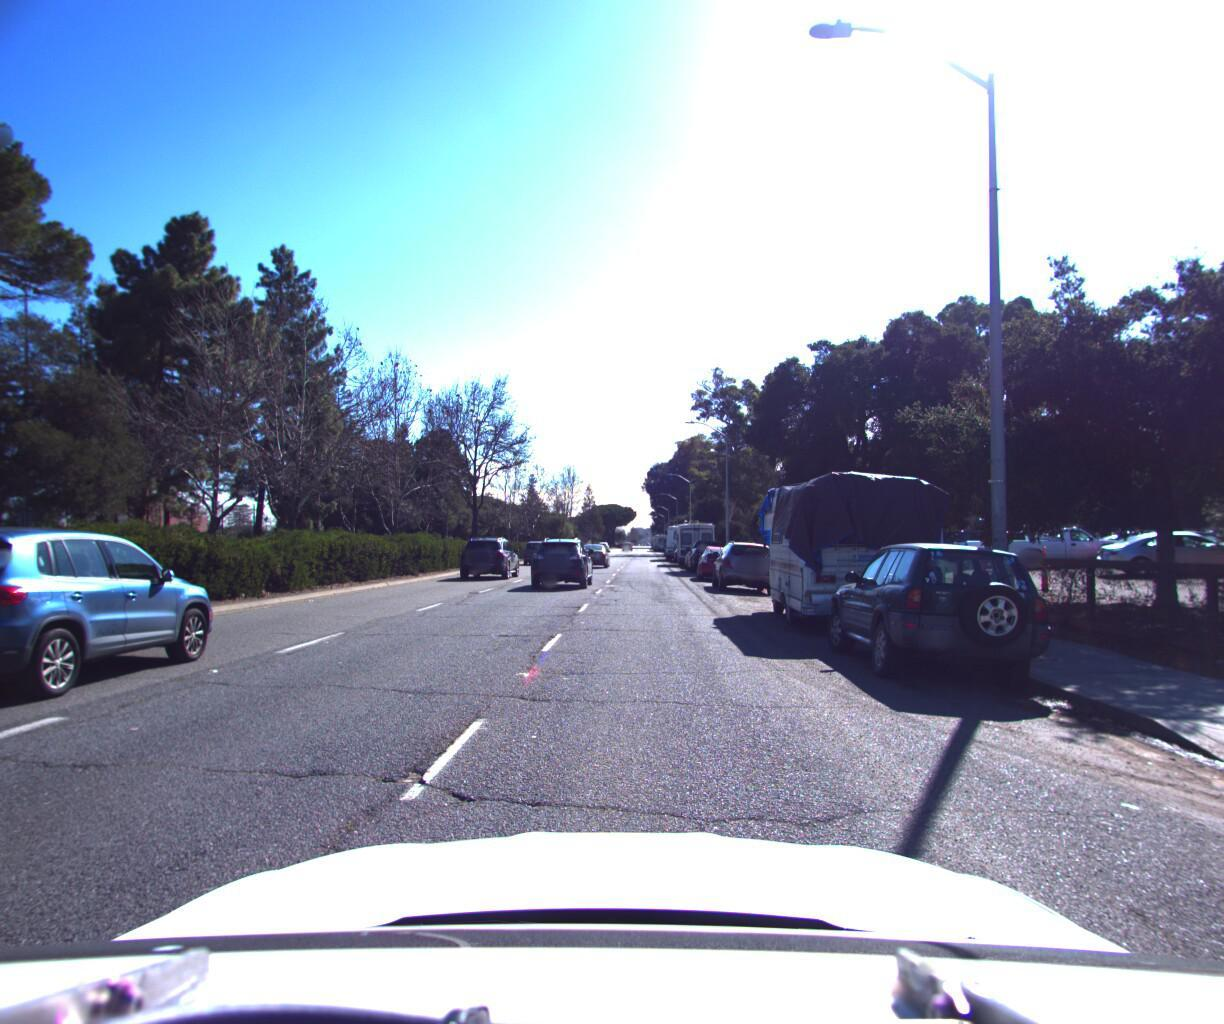car: (809, 516, 1077, 705), (977, 514, 1127, 562), (1085, 523, 1224, 573), (941, 520, 1069, 562), (703, 533, 785, 592), (898, 522, 1018, 560), (527, 531, 595, 586), (460, 531, 521, 576), (680, 532, 731, 570), (691, 538, 740, 578), (516, 532, 552, 561), (579, 538, 613, 562)
other_vehicle: (750, 464, 963, 643), (668, 513, 717, 562), (661, 517, 697, 556)
